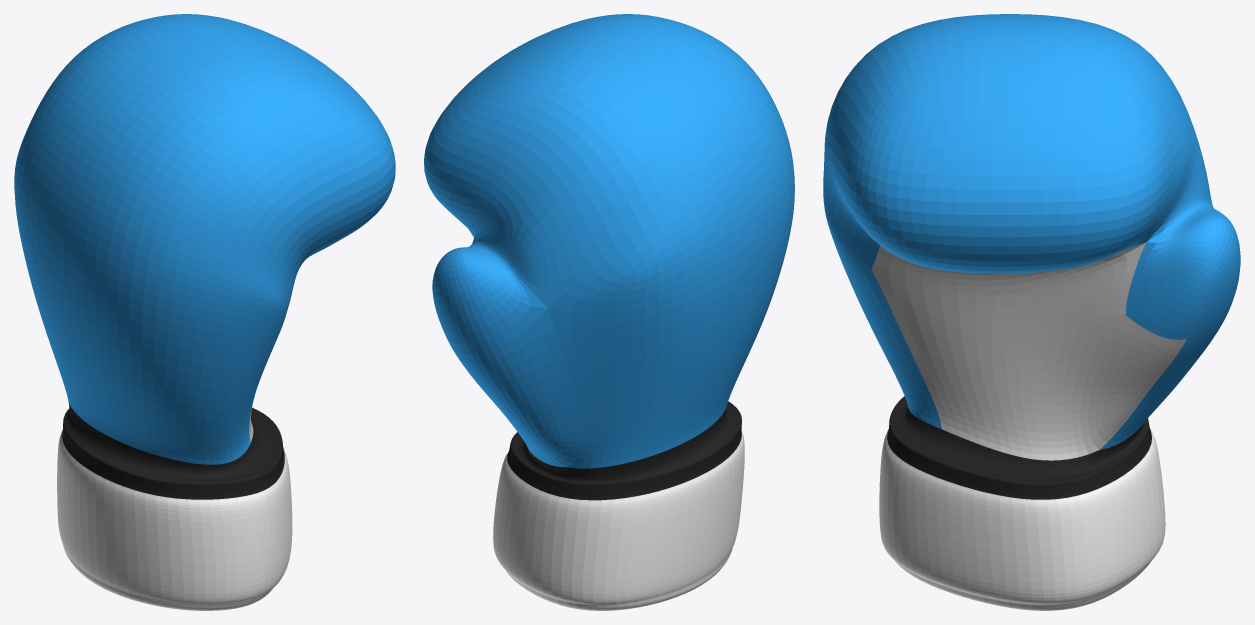
Rendered from BoxingGlove.fbx.
3 renders of one model, left to right at view 1: azimuth 30°, elevation 25°; view 2: azimuth 150°, elevation 25°; view 3: azimuth 270°, elevation 25°, orthographic. The views are drawn at different scales.
Visible parts, largest first — view 1: Boxing Glove; view 2: Boxing Glove; view 3: Boxing Glove.
Boxes of the visible parts, box(x1,y1,x2,y2) form: Boxing Glove: box(14, 14, 395, 610); Boxing Glove: box(424, 14, 794, 610); Boxing Glove: box(823, 14, 1240, 610).
Size of the model in its own units: 603 by 1007 by 702.
